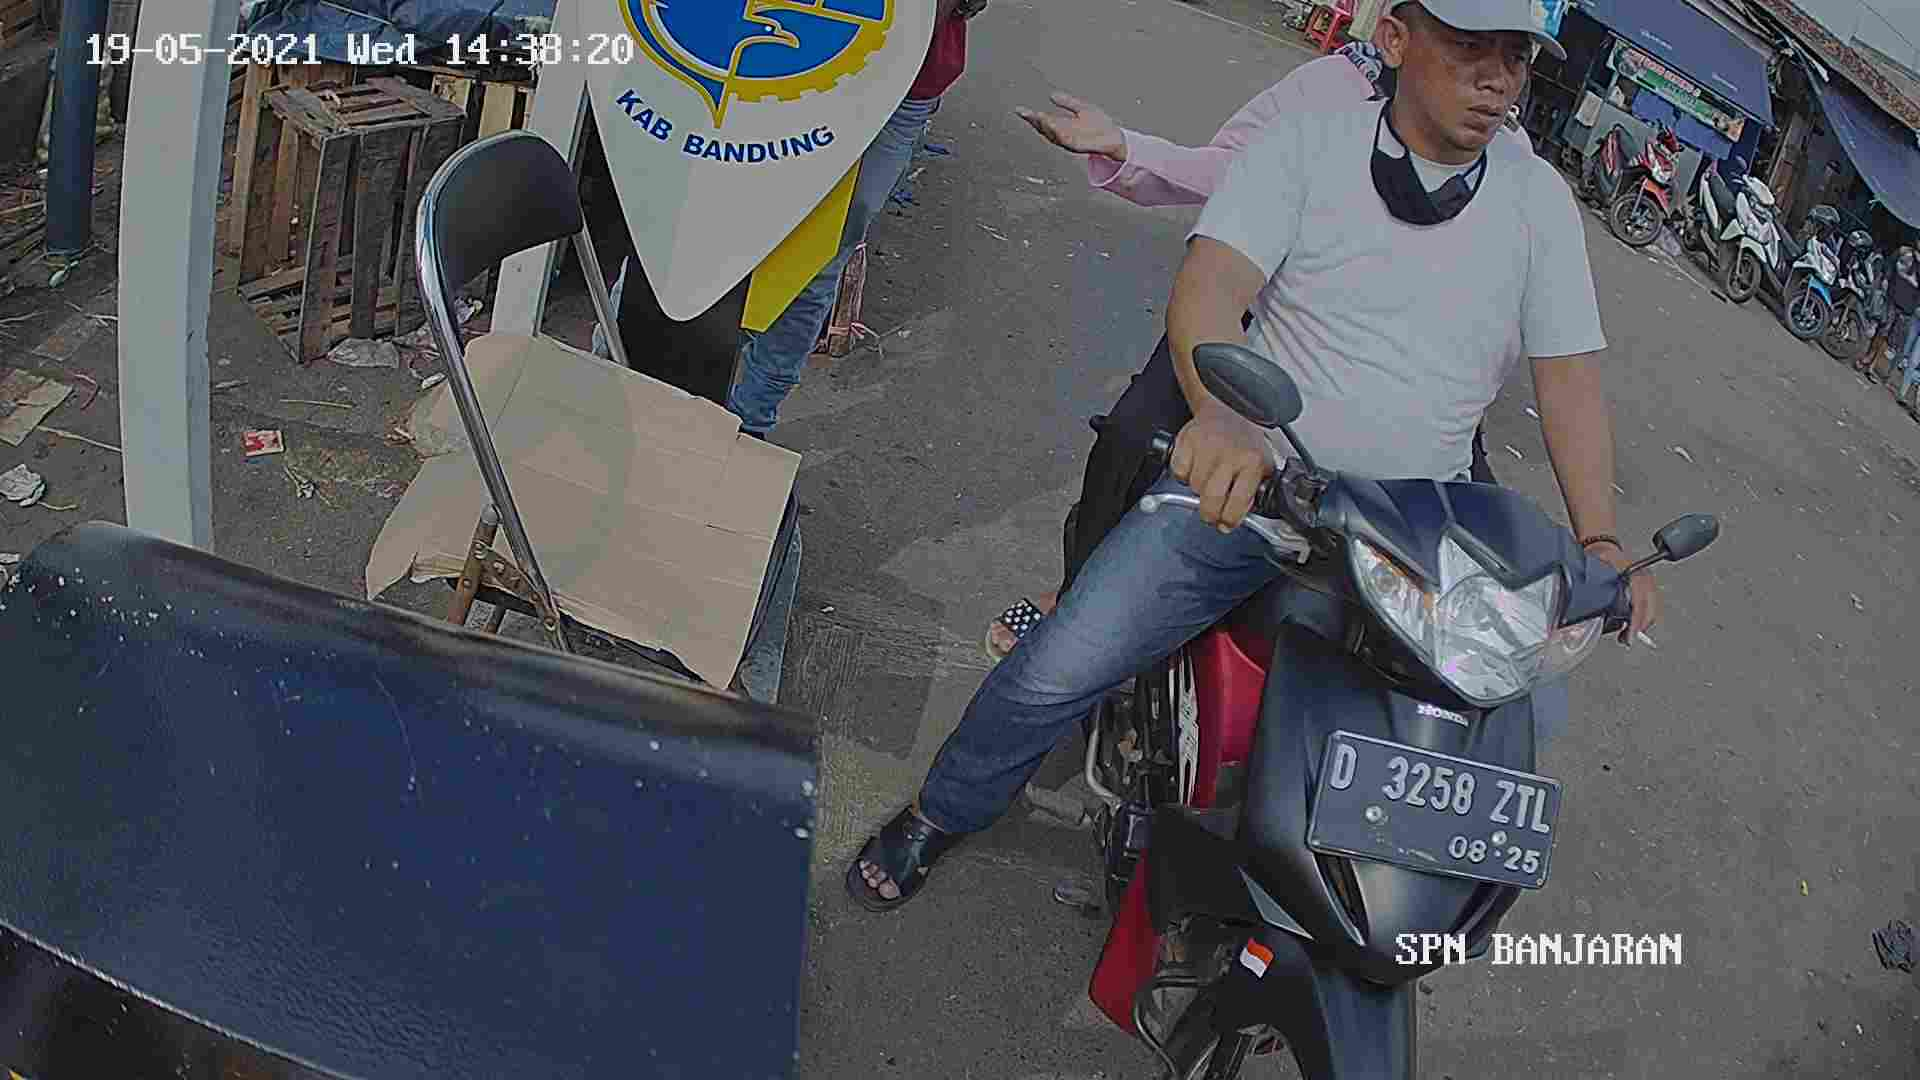motor: (1062, 340, 1589, 1080)
